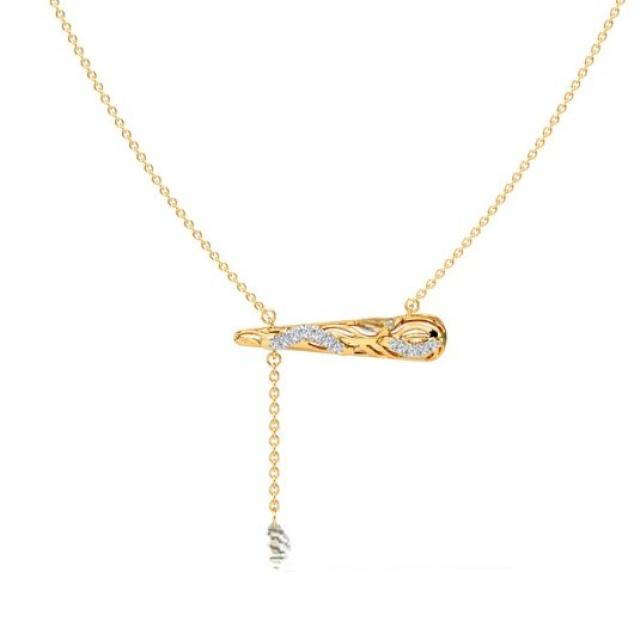missing gem: (268, 524, 283, 538), (271, 538, 282, 550), (272, 554, 283, 565)
